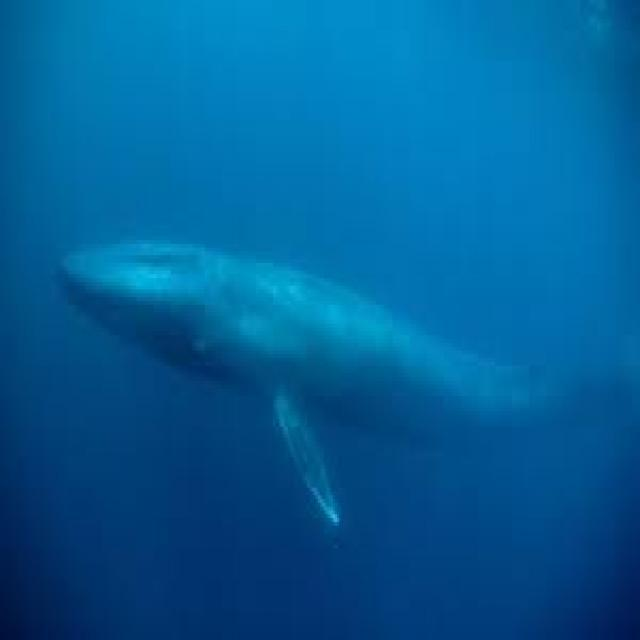blue_whale: (38, 202, 640, 541)
